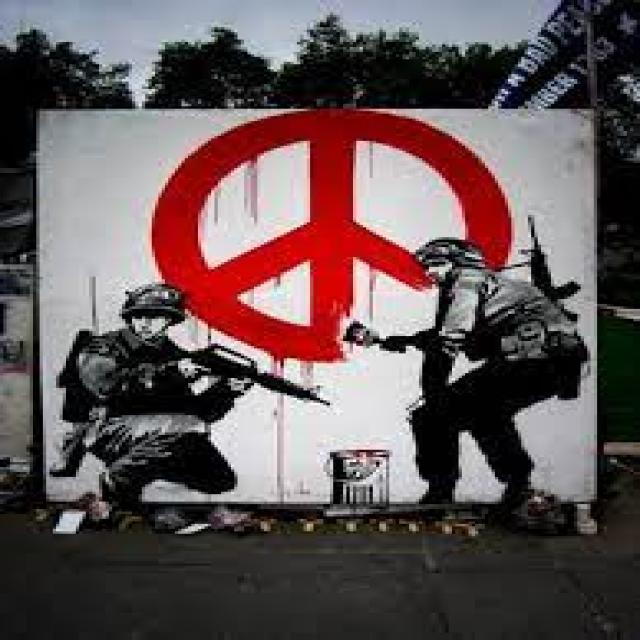-: (51, 110, 590, 502)
